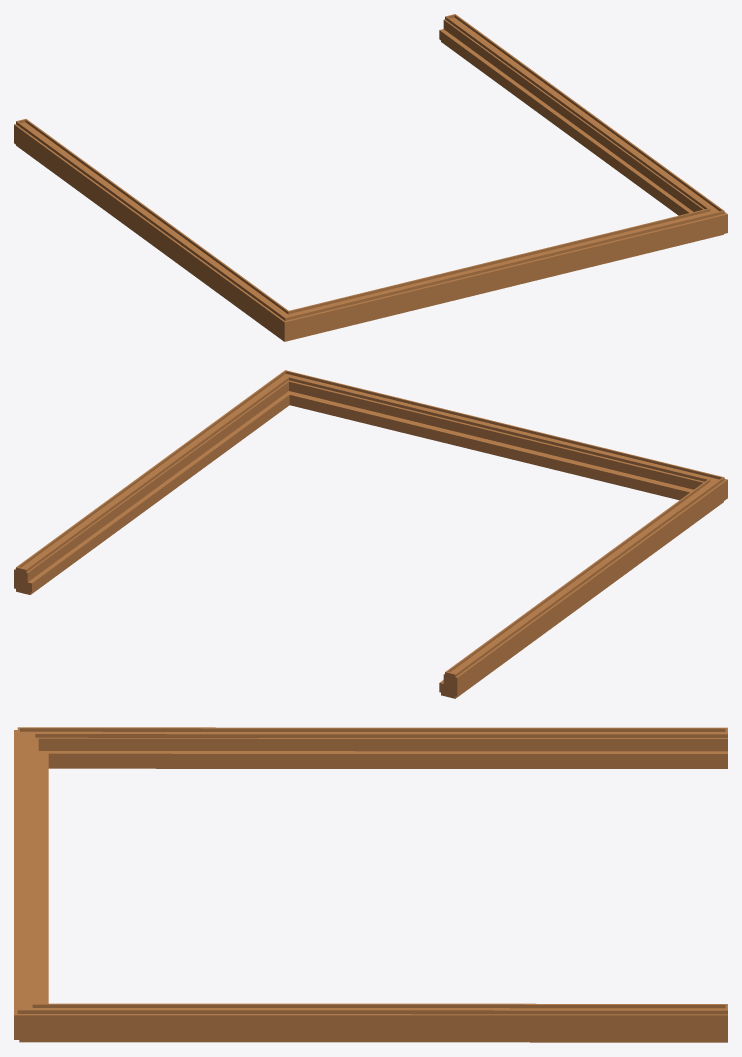
File: MeshDoorwayDouble_10_0.obj
The picture shows the model from 3 angles, top to bottom: view 1: azimuth 30°, elevation 25°; view 2: azimuth 150°, elevation 25°; view 3: azimuth 270°, elevation 25°; orthographic projection. The views are drawn at different scales.
Visible parts, largest first — view 1: DoorwayDouble_10; view 2: DoorwayDouble_10; view 3: DoorwayDouble_10.
Part boxes in pixels (x1,y1,x2,y2): DoorwayDouble_10: [14, 14, 727, 341]; DoorwayDouble_10: [14, 370, 727, 698]; DoorwayDouble_10: [14, 727, 727, 1042].
Bounding box in the file's own units: 1.99 × 0.1047 × 2.1.
